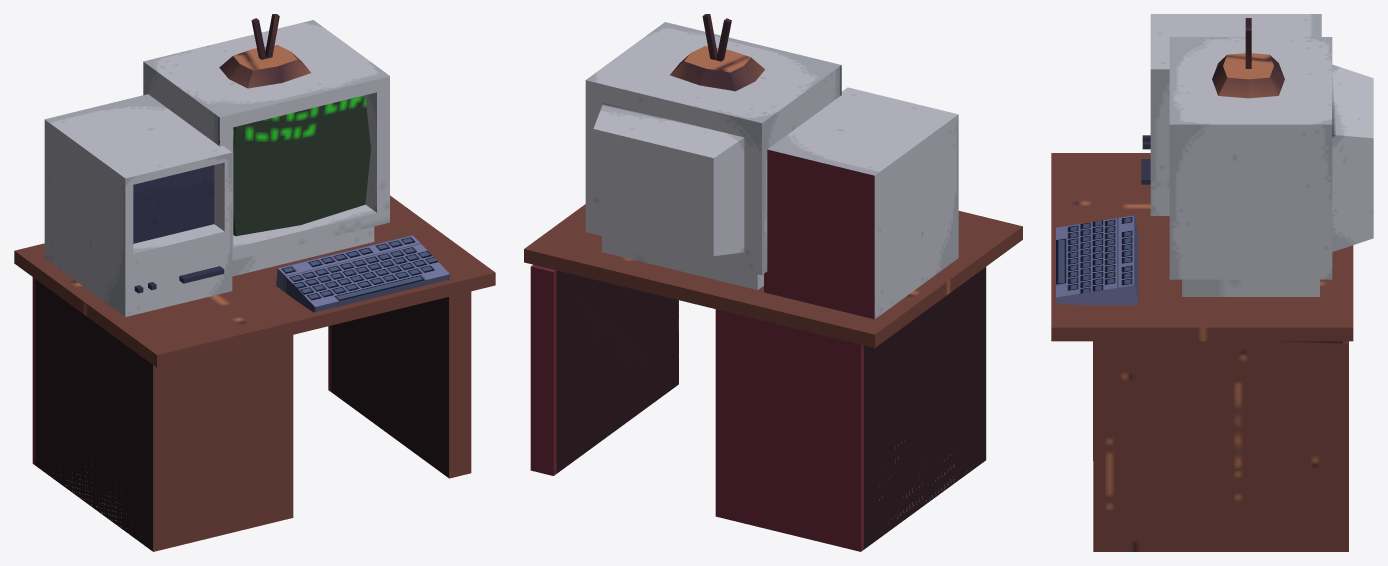
Rendered from Computador.fbx.
3 views of the same model, side by side, from view 1: azimuth 30°, elevation 25°; view 2: azimuth 150°, elevation 25°; view 3: azimuth 270°, elevation 25° (orthographic). The views are drawn at different scales.
Visible parts, largest first — view 1: Computador; view 2: Computador; view 3: Computador.
Boxes of the visible parts, left/top/right/bottom form: Computador: left=14, top=14, right=495, bottom=551; Computador: left=524, top=14, right=1022, bottom=551; Computador: left=1051, top=14, right=1373, bottom=551.
Size of the model in its own units: 148 by 116 by 183.
